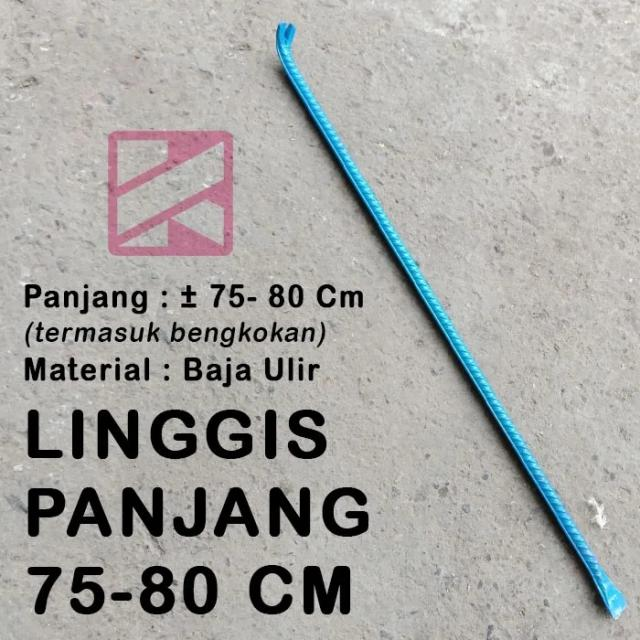Linggis: (277, 21, 626, 617)
